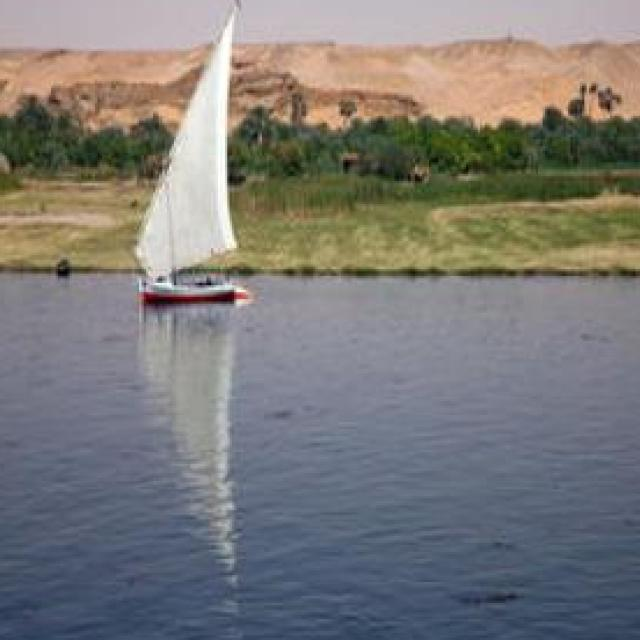sailboat: (128, 0, 266, 311)
